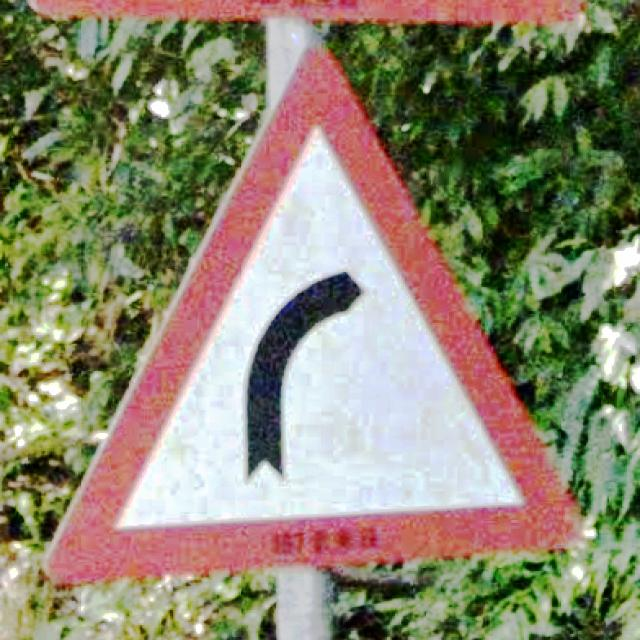rightbend: (44, 47, 588, 589)
